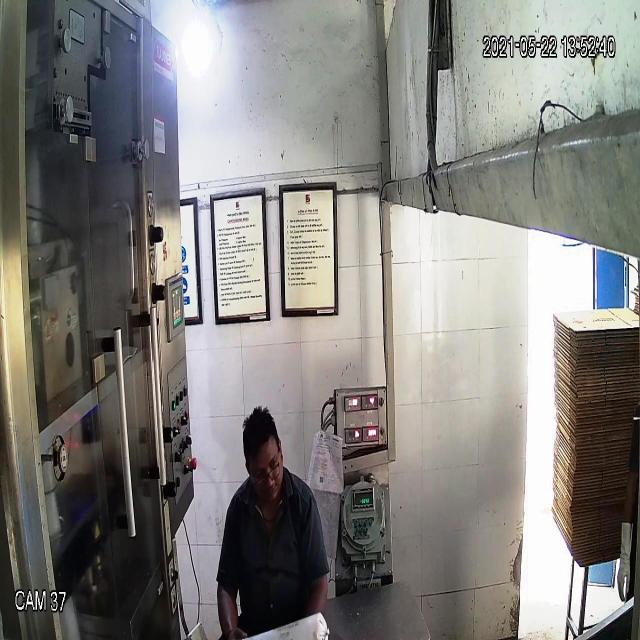glasses: (245, 448, 283, 494)
